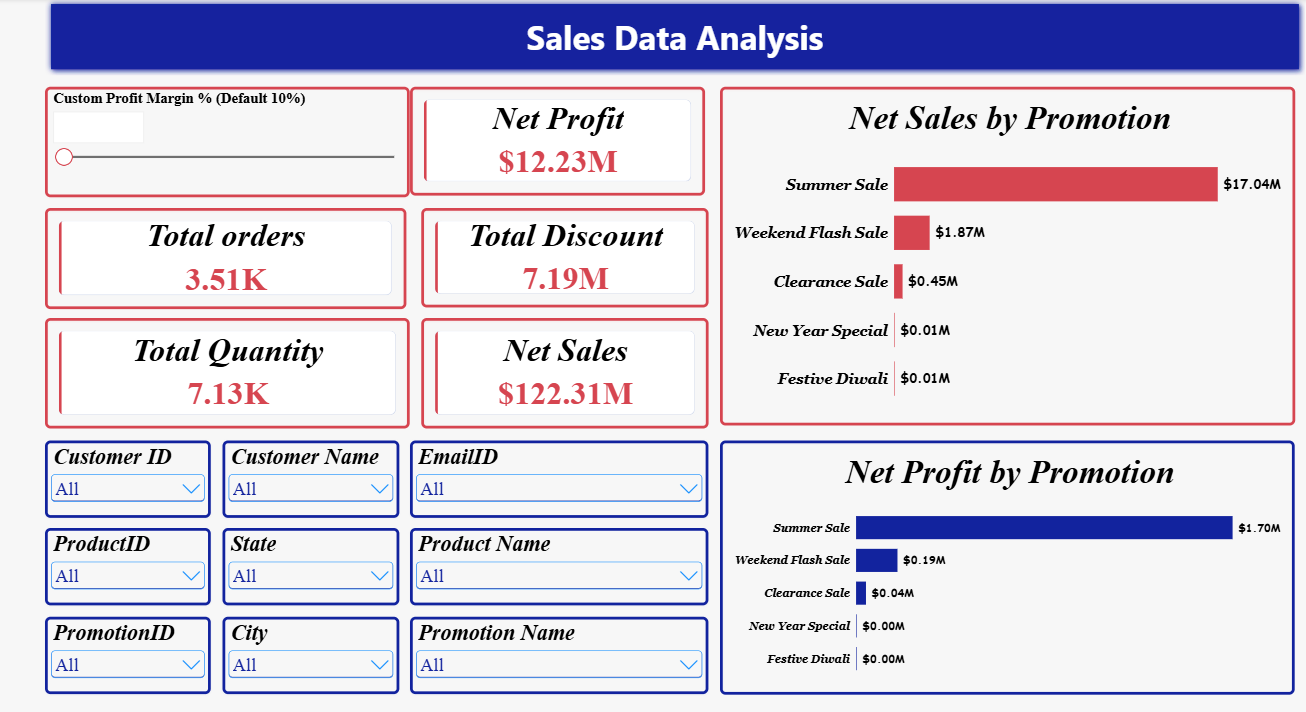

The page's visual inventory and layout, read from the dashboard file:
{"tool":"powerbi","page":{"name":"Overview","canvas":[1920,1080],"ordinal":0},"visuals":[{"type":"cardVisual","fields":{"Data":["Measures Table.Total orders"]},"box":[80,304,523,146.6],"z":0},{"type":"cardVisual","fields":{"Data":["Measures Table.Net Sales"]},"box":[624,464,416,160],"z":1000},{"type":"cardVisual","fields":{"Data":["Measures Table.Simulated profit"]},"box":[608,128,427.1,157.4],"z":2000},{"type":"slicer","fields":{"Values":["Dim Customers.Customer ID"]},"box":[80,640,240,112],"z":3000},{"type":"slicer","fields":{"Values":["Dim Customers.Customer Name"]},"box":[336,640,256,112],"z":4000},{"type":"slicer","fields":{"Values":["Dim Customers.EmailID"]},"box":[608,640,432,112],"z":5000},{"type":"slicer","fields":{"Values":["Dim Customers.State"]},"box":[336,768,256,112],"z":6000},{"type":"slicer","fields":{"Values":["Dim Customers.City"]},"box":[336,896,256,112],"z":7000},{"type":"slicer","fields":{"Values":["Dim Product.ProductID"]},"box":[80,768,240,112],"z":8000},{"type":"slicer","fields":{"Values":["Dim Product.Product Name"]},"box":[608,768,432,112],"z":9000},{"type":"slicer","fields":{"Values":["Dim Promotion.PromotionID"]},"box":[80,896,240,112],"z":10000},{"type":"slicer","fields":{"Values":["Dim Promotion.Promotion Name"]},"box":[608,896,432,112],"z":11000},{"type":"cardVisual","fields":{"Data":["Measures Table.Total Quantity"]},"box":[80,464,528,160],"z":12000},{"type":"cardVisual","fields":{"Data":["Measures Table.Discount"]},"box":[624,304,416,144],"z":13000},{"type":"slicer","fields":{"Values":["Margin %.Margin %"]},"box":[80,128,528,160],"z":14000},{"type":"barChart","title":"Net Profit by Promotion","fields":{"Category":["Dim Promotion.Promotion Name"],"Y":["Measures Table.Simulated profit"]},"box":[1056,640,832,368],"z":15000},{"type":"barChart","title":"Net Sales by Promotion","fields":{"Category":["Dim Promotion.Promotion Name"],"Y":["Measures Table.Net Sales"]},"box":[1056,128,832.4,490.4],"z":16000},{"type":"shape","box":[80,0,1824,112],"z":17000}]}

Visuals, with their boxes on the page's 1920x1080 design canvas (x1, y1, x2, y2). These are canvas units, not pixel positions in the 1306x712 screenshot, which may show the page scaled, cropped or inside an application window:
cardVisual - Measures Table.Total orders: [80, 304, 603, 451]
cardVisual - Measures Table.Net Sales: [624, 464, 1040, 624]
cardVisual - Measures Table.Simulated profit: [608, 128, 1035, 285]
slicer - Dim Customers.Customer ID: [80, 640, 320, 752]
slicer - Dim Customers.Customer Name: [336, 640, 592, 752]
slicer - Dim Customers.EmailID: [608, 640, 1040, 752]
slicer - Dim Customers.State: [336, 768, 592, 880]
slicer - Dim Customers.City: [336, 896, 592, 1008]
slicer - Dim Product.ProductID: [80, 768, 320, 880]
slicer - Dim Product.Product Name: [608, 768, 1040, 880]
slicer - Dim Promotion.PromotionID: [80, 896, 320, 1008]
slicer - Dim Promotion.Promotion Name: [608, 896, 1040, 1008]
cardVisual - Measures Table.Total Quantity: [80, 464, 608, 624]
cardVisual - Measures Table.Discount: [624, 304, 1040, 448]
slicer - Margin %.Margin %: [80, 128, 608, 288]
"Net Profit by Promotion" barChart: [1056, 640, 1888, 1008]
"Net Sales by Promotion" barChart: [1056, 128, 1888, 618]
shape: [80, 0, 1904, 112]
